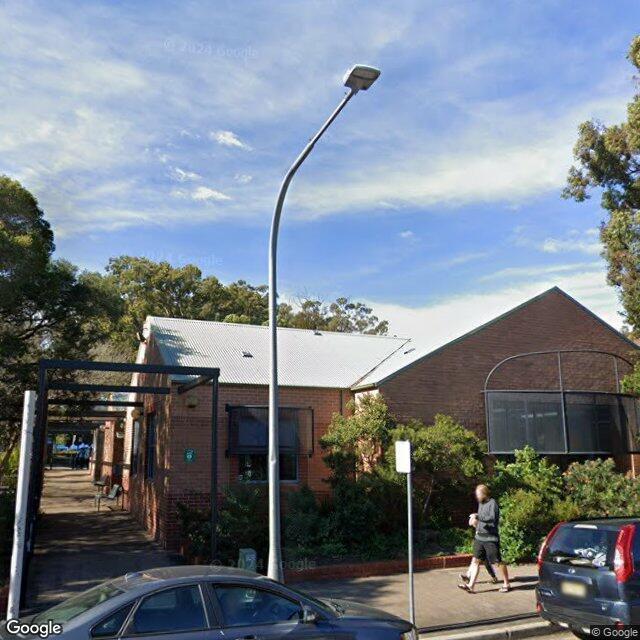steel-pole: (267, 222, 283, 582)
streetlight: (274, 66, 381, 222)
